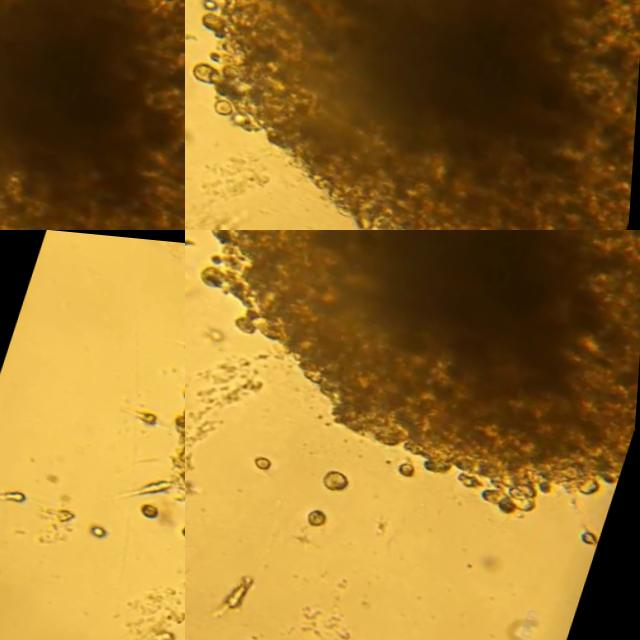cell: (237, 570, 261, 604), (331, 463, 354, 482), (0, 487, 28, 501), (48, 504, 75, 518), (314, 503, 333, 519), (140, 404, 158, 420), (144, 499, 162, 513), (404, 452, 421, 466), (92, 521, 110, 534), (263, 449, 277, 464), (590, 517, 603, 531), (164, 626, 181, 636)
tumor_mass: (204, 230, 640, 504), (0, 0, 185, 230)
